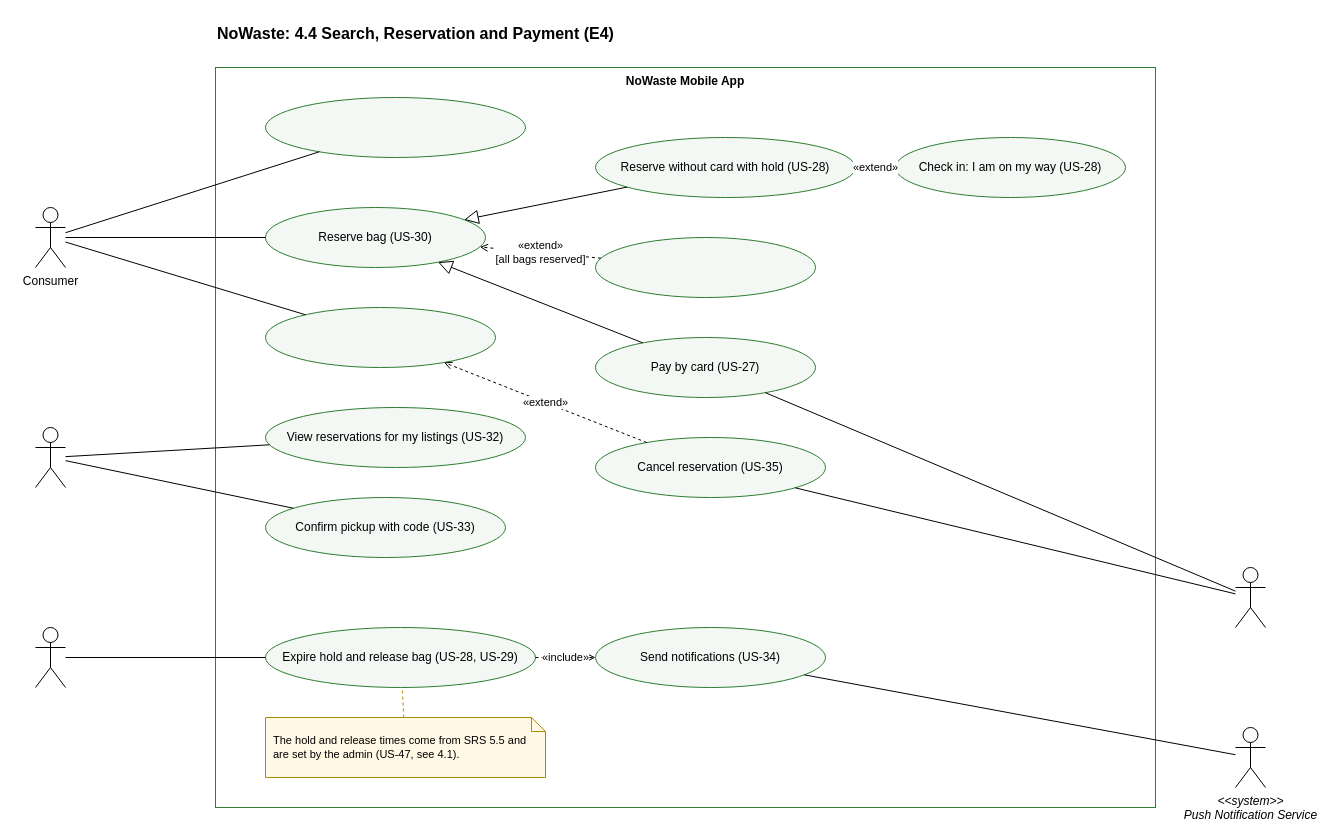
This 1334x840 diagram has some shape labels left out. Here are the shapes that lost their labels. From the top down, the box of each, then its label:
(264, 96, 526, 158): Browse offers on the map by distance (US-26)
(594, 236, 816, 298): Join waitlist (US-29)
(264, 306, 496, 368): View my reservations (US-31)
(34, 426, 66, 488): Vendor
(1234, 566, 1266, 628): <<system>> Payment Gateway
(34, 626, 66, 688): <<system>> Scheduler
